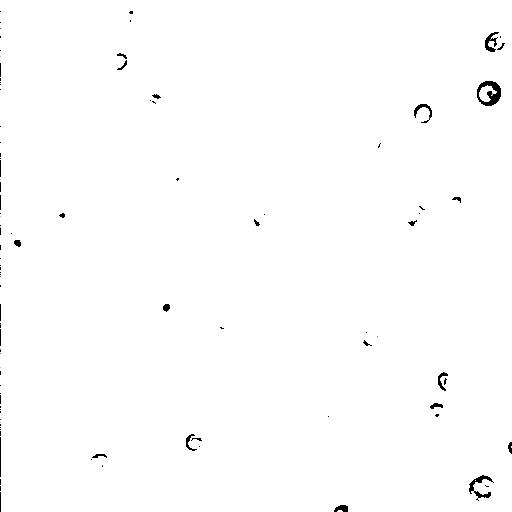micro-algae: (399, 350, 511, 481), (297, 211, 415, 325), (19, 6, 93, 79), (81, 5, 153, 72), (445, 417, 509, 483), (428, 173, 479, 225), (372, 9, 415, 49), (166, 160, 199, 197), (481, 123, 511, 161), (397, 205, 430, 236), (467, 473, 499, 503), (118, 0, 147, 31), (21, 48, 50, 77), (115, 335, 143, 365), (48, 202, 75, 232), (475, 79, 503, 107), (5, 229, 33, 255), (375, 135, 401, 162), (354, 327, 385, 349), (156, 292, 179, 321), (88, 451, 114, 476), (482, 29, 508, 53), (249, 208, 274, 231), (413, 103, 434, 125), (308, 110, 331, 130), (437, 371, 457, 392), (183, 432, 204, 451), (109, 53, 129, 71), (427, 399, 445, 418), (447, 195, 464, 212), (327, 501, 352, 511), (308, 503, 327, 511), (507, 435, 511, 456), (507, 159, 511, 178)
